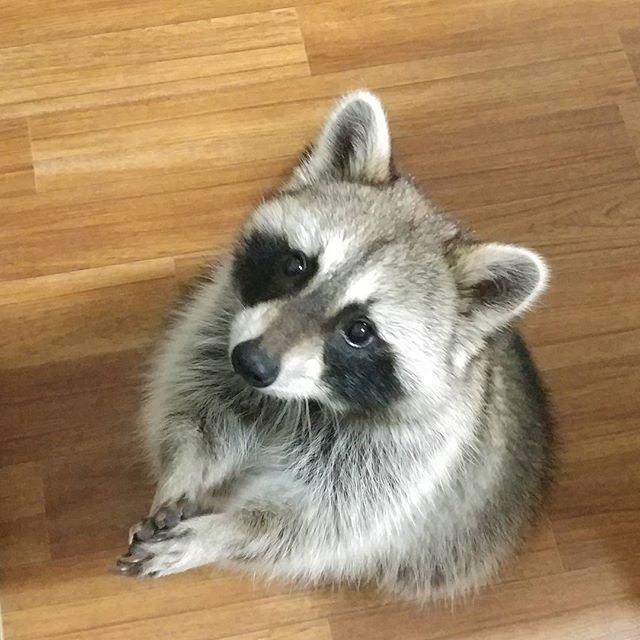raccoon: (86, 62, 589, 620)
